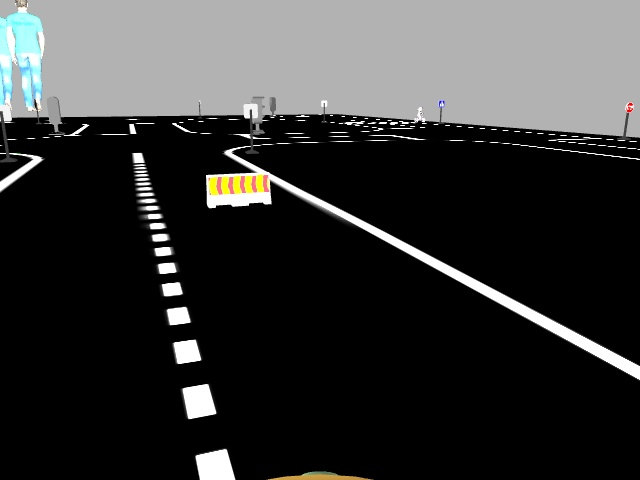ClosedRoadStand: (205, 175, 270, 202)
